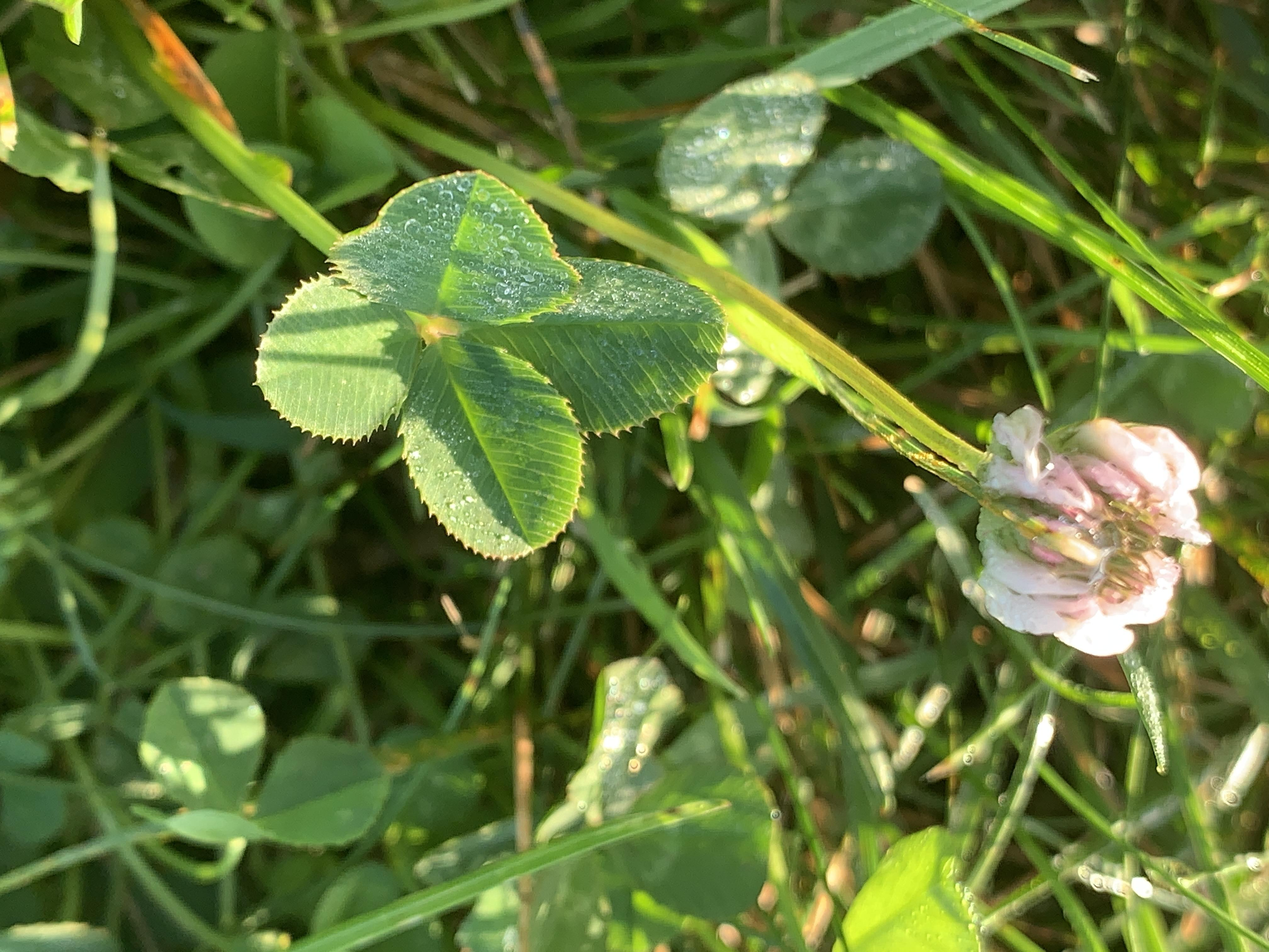4-Leaf-Clovers: (534, 191, 1037, 547)
